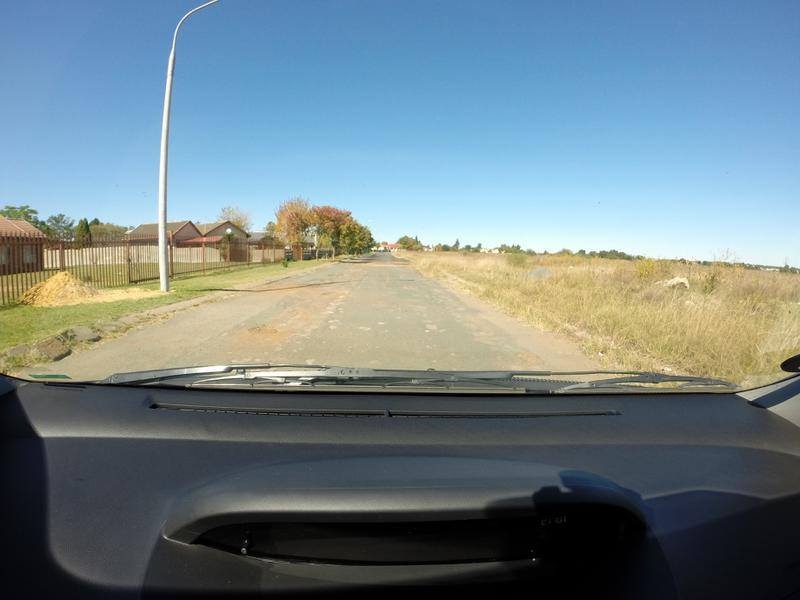pothole: (239, 326, 276, 340), (508, 349, 536, 366), (306, 276, 338, 289), (389, 277, 413, 282)
